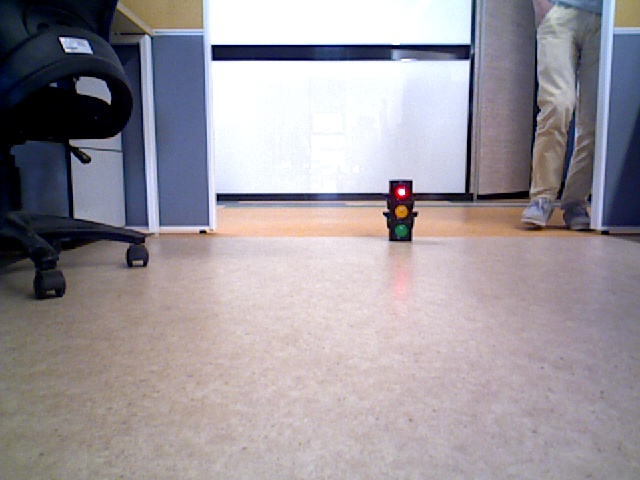red: (390, 181, 413, 238)
